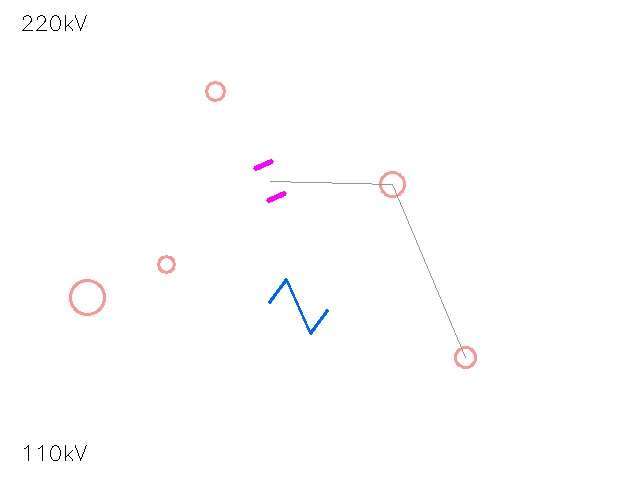capacitor: (241, 152, 299, 210)
circuit_breaker: (269, 277, 327, 335)
current_transformer: (368, 160, 416, 208)
feeder_terminal: (197, 73, 233, 109)
load_break_switch: (53, 263, 121, 331)
surge_arrester: (444, 336, 486, 378), (150, 248, 182, 280)
